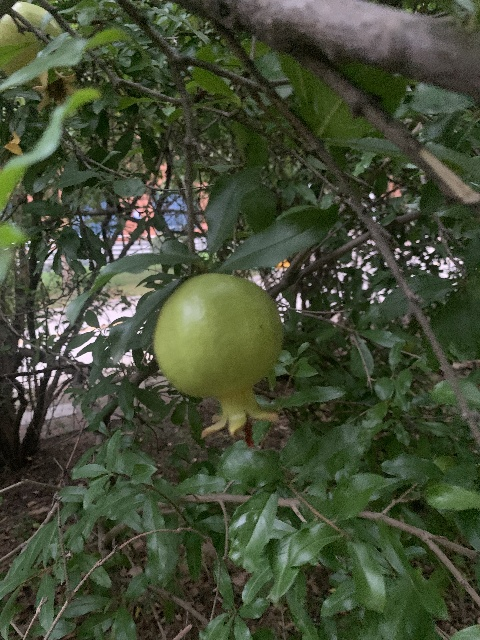mid-growth: (152, 273, 283, 443), (0, 0, 68, 110)
